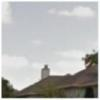chimneys: (40, 62, 51, 80)
